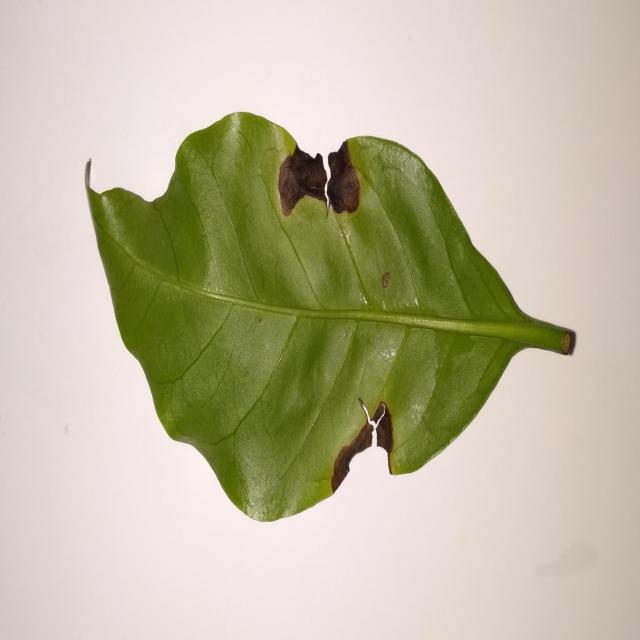Enfermedad-Antracnosis: (85, 111, 578, 526)
